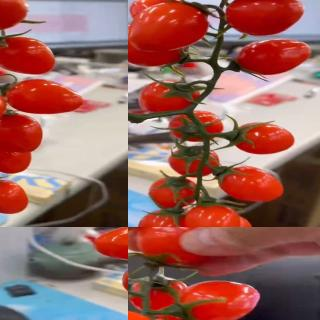tomato: (128, 0, 205, 52), (177, 279, 260, 320), (128, 227, 207, 267), (235, 38, 312, 76), (228, 0, 305, 37), (128, 24, 194, 67), (3, 79, 85, 113), (217, 165, 284, 204), (128, 273, 191, 310), (138, 80, 200, 117), (0, 35, 57, 75), (233, 121, 297, 154), (168, 110, 225, 141), (168, 146, 222, 178), (148, 177, 199, 210), (0, 113, 44, 151), (182, 202, 240, 227), (93, 227, 128, 265), (0, 139, 31, 174), (138, 208, 195, 227), (0, 180, 28, 216), (0, 0, 28, 32), (199, 214, 256, 227)
